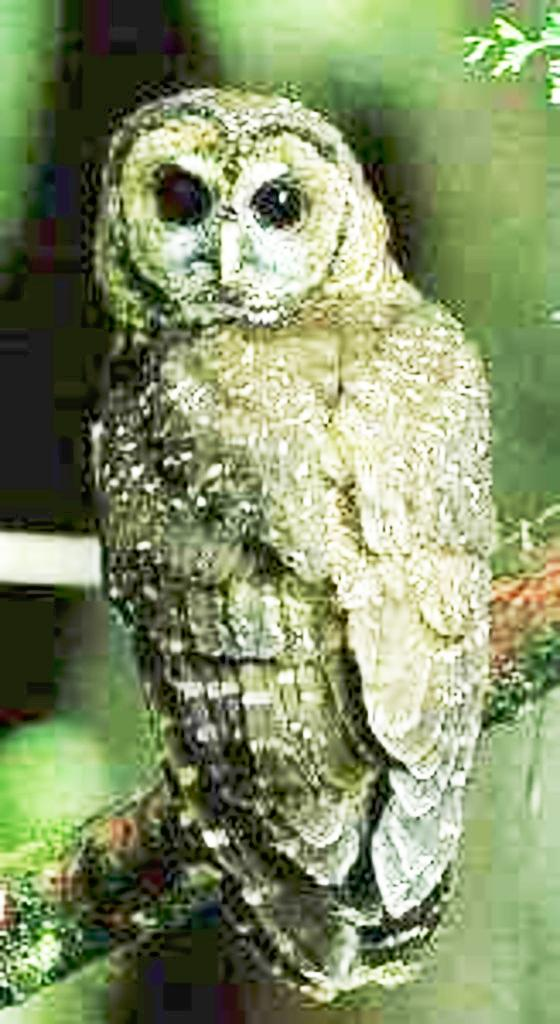Owl: (85, 86, 502, 1018)
